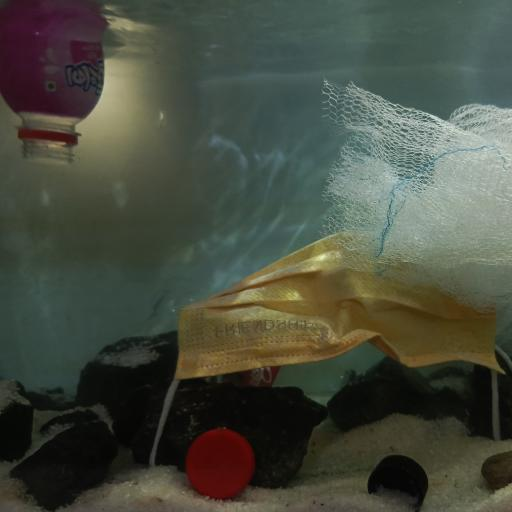bottle_cap: (186, 427, 254, 500), (368, 453, 430, 512)
mask: (169, 224, 504, 377)
net: (314, 73, 512, 320)
plastic_bottle: (144, 288, 360, 396), (0, 17, 107, 166)
